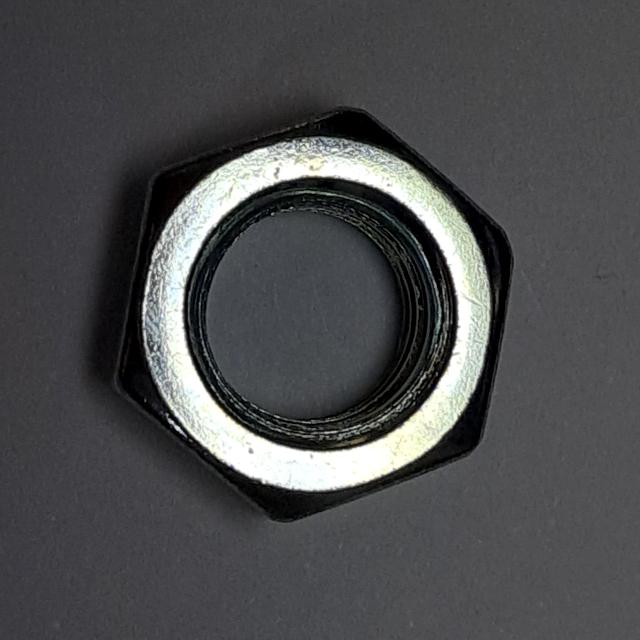Excellent: (100, 94, 527, 537)
